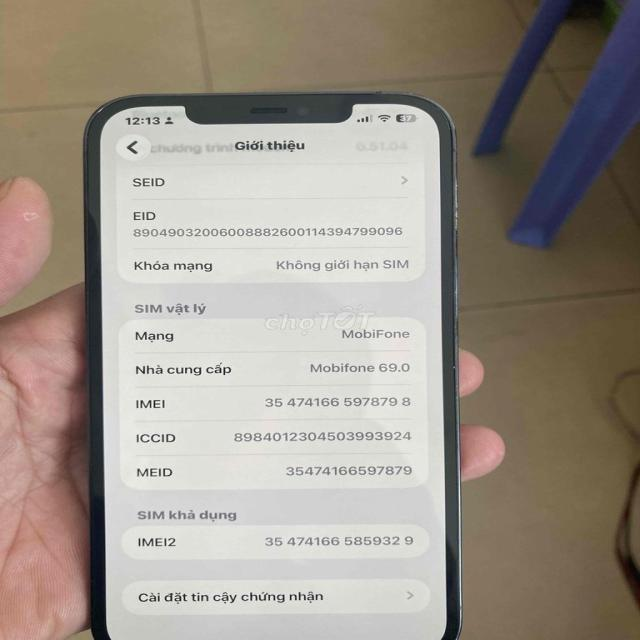gen_12_13: (75, 89, 483, 640)
